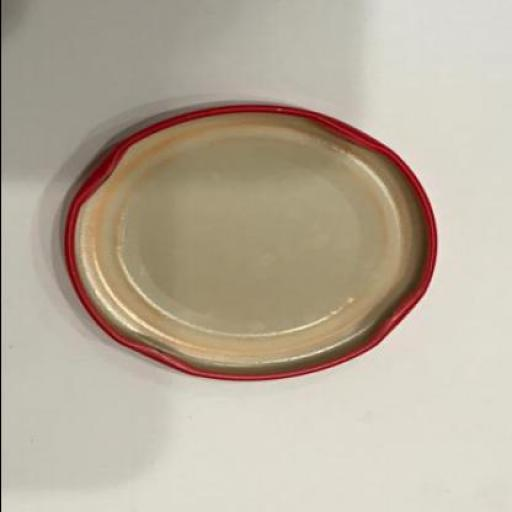metal: (62, 104, 438, 382)
